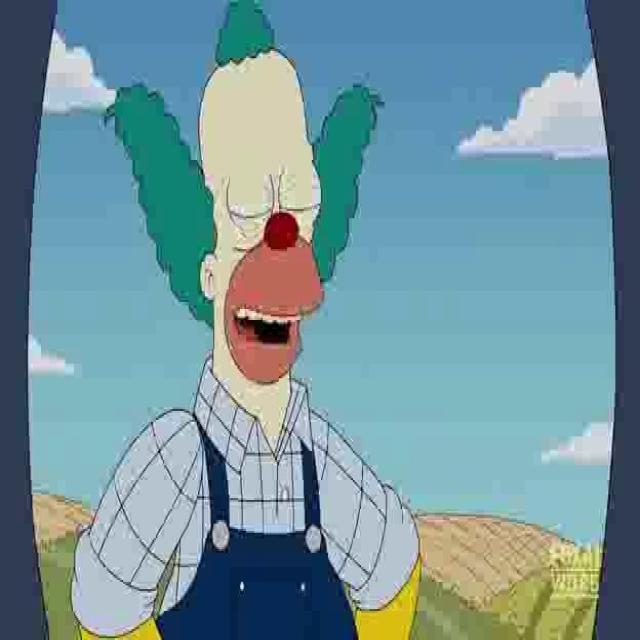Krusty the Clown: (104, 0, 382, 436)
